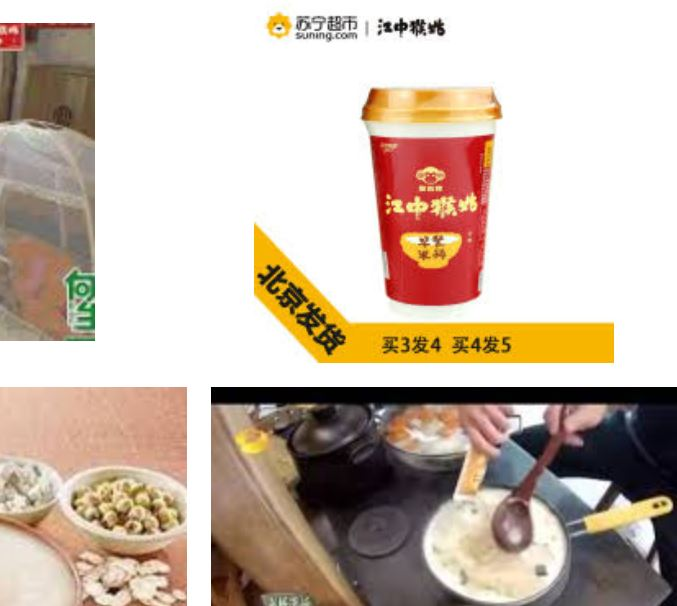cup: (363, 86, 501, 305)
